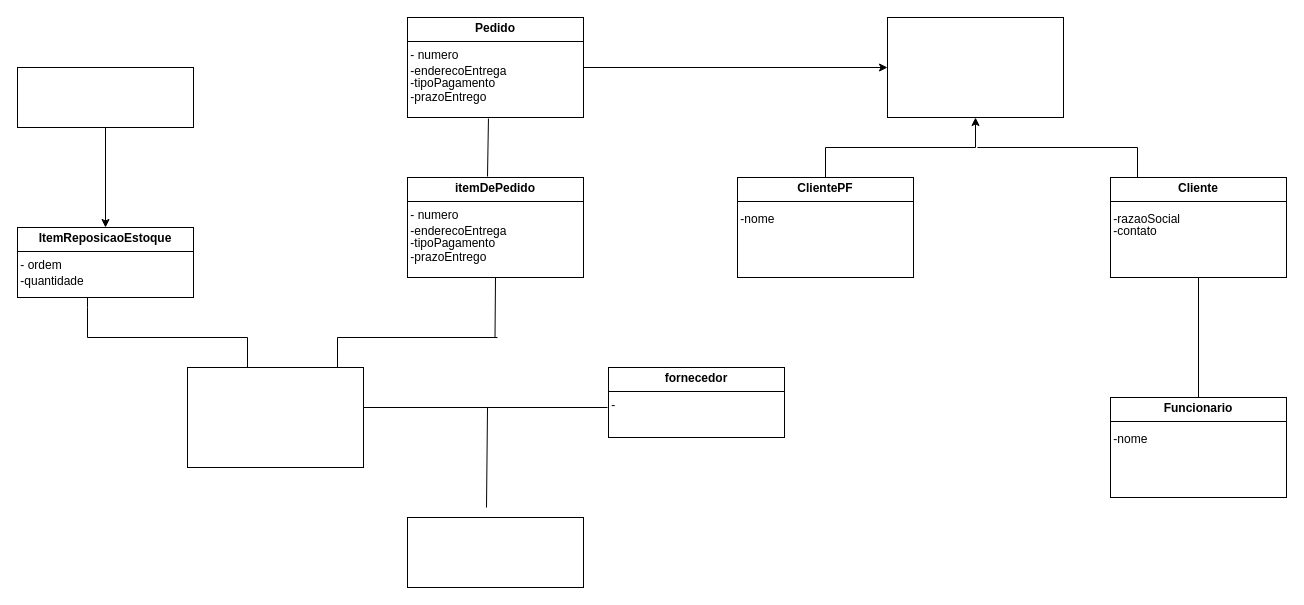
This 1304x605 diagram has some shape labels left out. The shapes that lost their labels are listed below. From the top down, each one's box as (x1, y1, x2, y2) in pixels, then its label:
(886, 16, 1064, 118): Cliente -endereco -telefone
(16, 66, 194, 128): PedidoReposicaodeEstoque - DataColocacao
(186, 366, 364, 468): Produto - codigo -descricao -precounitario -qtdaestoque
(406, 516, 584, 588): Fornecimento -prazoFornecimento -prazoFornecimento
